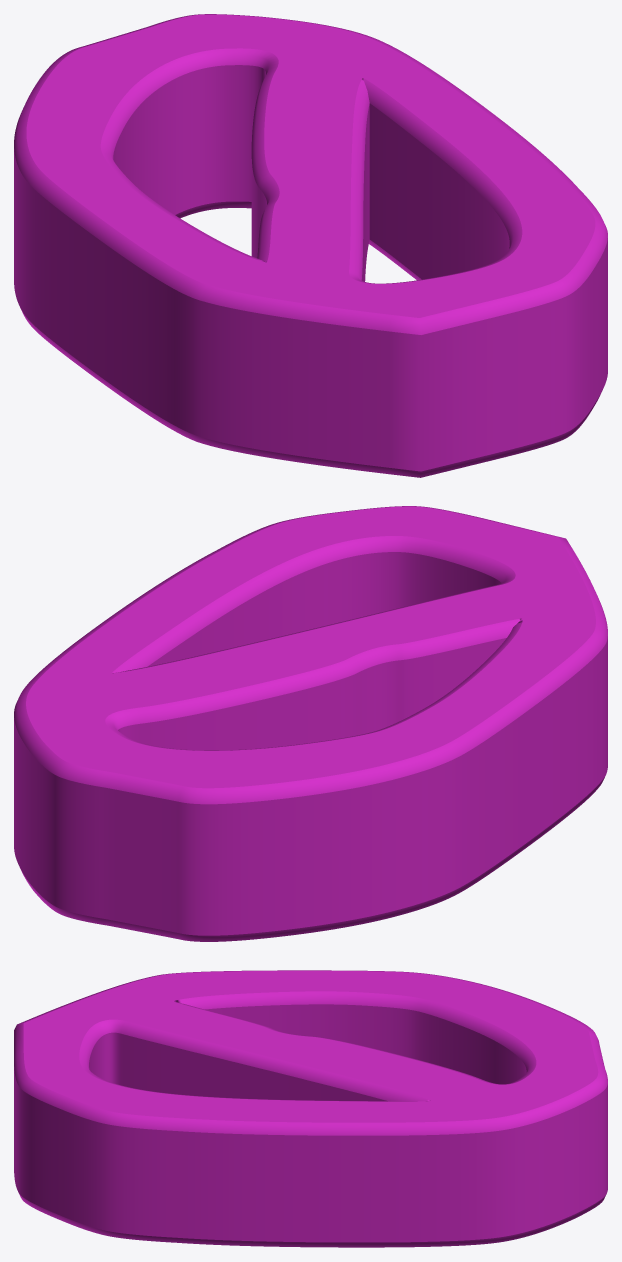
The model's file is Bubble_Number0.fbx.
3 renders of one model, top to bottom at view 1: azimuth 30°, elevation 25°; view 2: azimuth 150°, elevation 25°; view 3: azimuth 270°, elevation 25°, orthographic. The views are drawn at different scales.
Visible parts, largest first — view 1: BubbleNumber_0; view 2: BubbleNumber_0; view 3: BubbleNumber_0.
Boxes of the visible parts, <box> form: BubbleNumber_0: <box>14,14,607,477</box>; BubbleNumber_0: <box>14,506,607,941</box>; BubbleNumber_0: <box>14,970,607,1247</box>.
Bounding box in the file's own units: 0.3866 × 0.14 × 0.6055.
